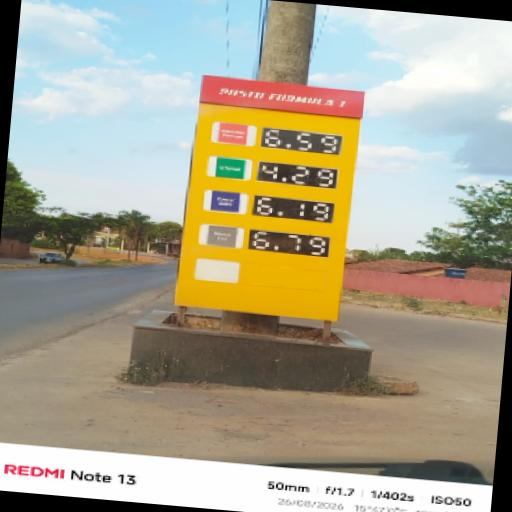ETANOL: (217, 158, 247, 179)
GASOLINA C: (221, 123, 246, 144)
S10: (211, 227, 238, 247)
S500: (213, 190, 242, 211)
placa: (179, 76, 359, 316)
preco: (251, 194, 336, 225), (258, 127, 341, 158), (246, 230, 329, 259), (260, 161, 336, 191)
